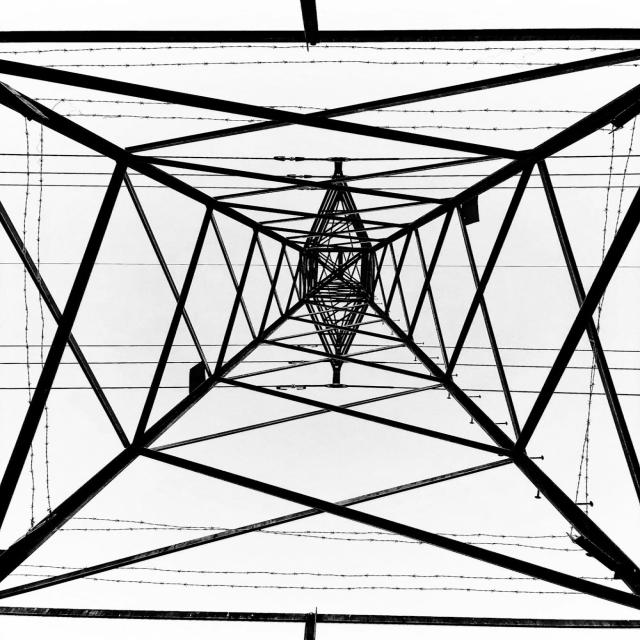transmission tower: (27, 54, 571, 574)
